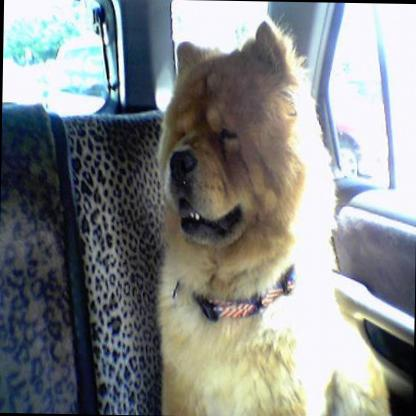chow: (147, 11, 400, 416)
